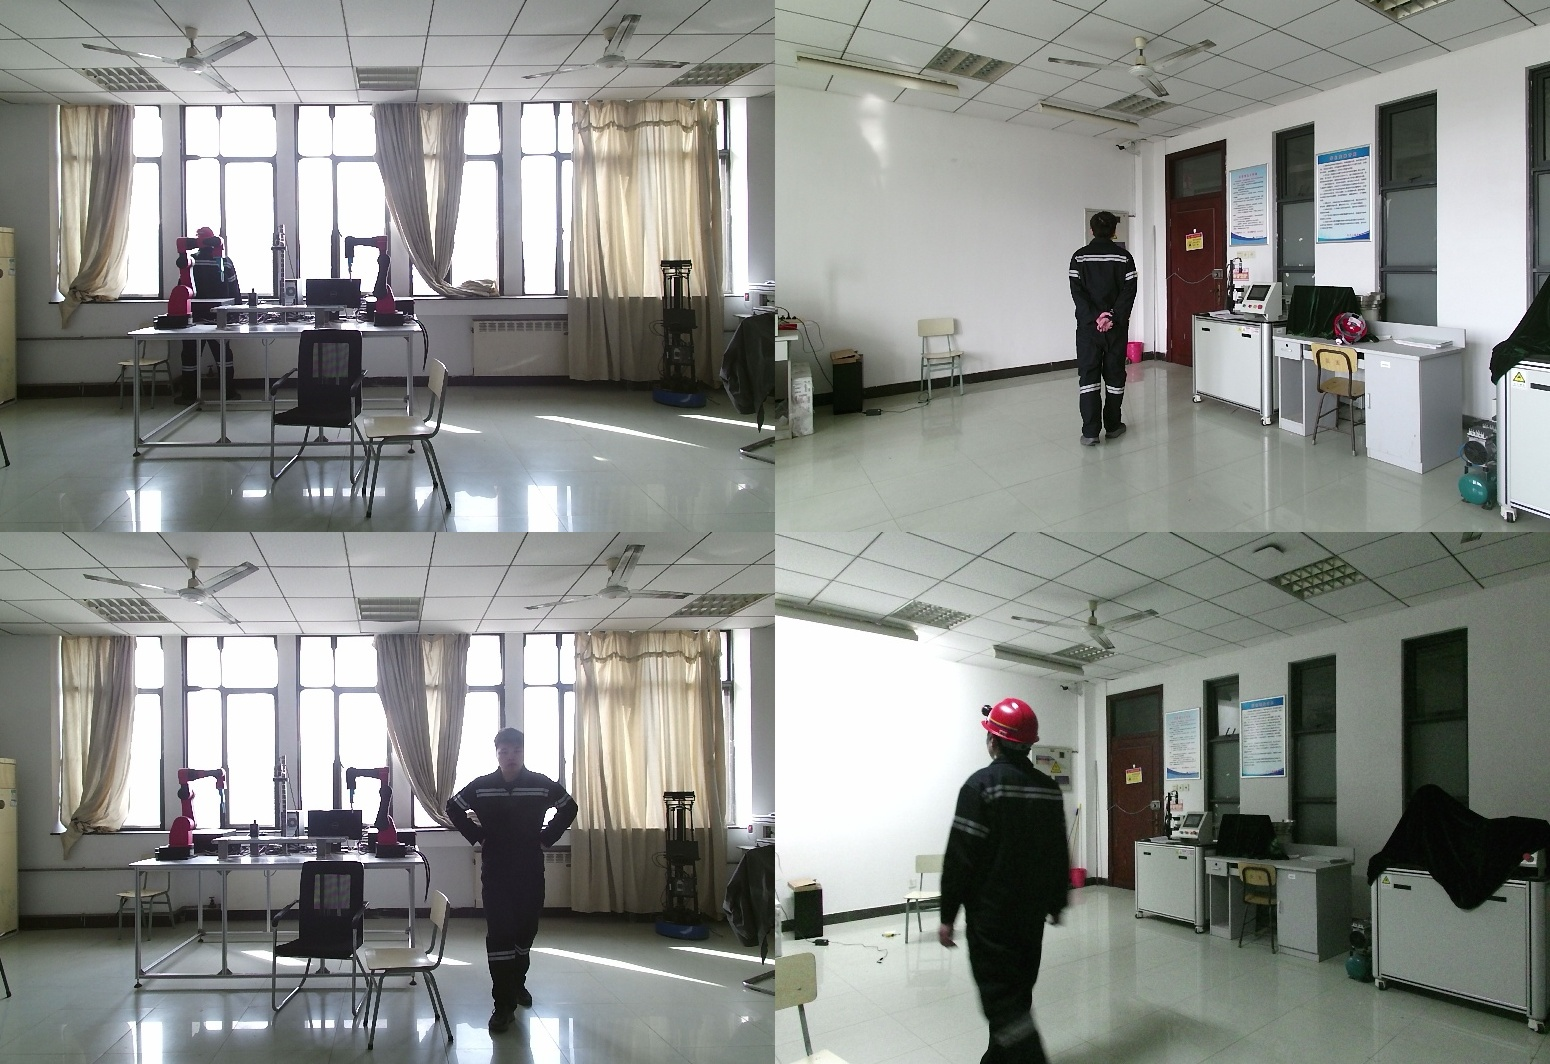person: (939, 699, 1080, 1064), (448, 729, 589, 1030), (1063, 211, 1142, 450), (177, 226, 240, 409)
